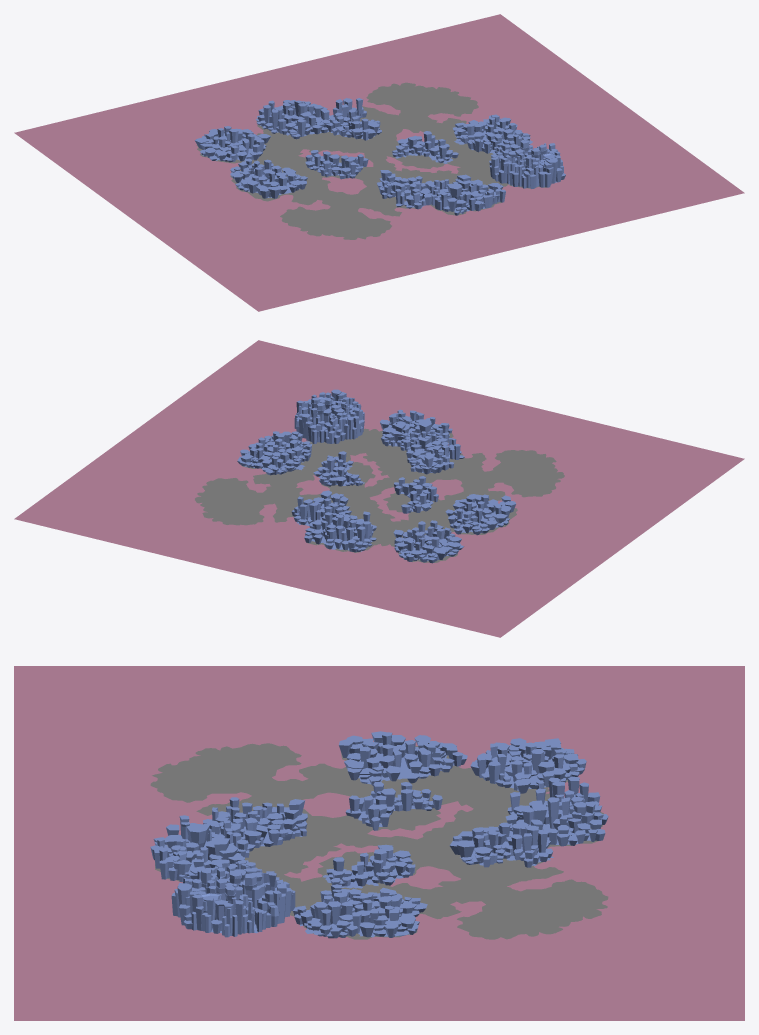
Rendered from ffff.fbx.
The picture shows the model from 3 angles, top to bottom: view 1: azimuth 30°, elevation 25°; view 2: azimuth 150°, elevation 25°; view 3: azimuth 270°, elevation 25°; orthographic projection. The views are drawn at different scales.
Visible parts, largest first — view 1: Plane004, Group004, Line027; view 2: Plane004, Group004, Line027; view 3: Plane004, Group004, Line027.
Boxes of the visible parts, <box> form: Plane004: <box>14,14,744,311</box>; Group004: <box>195,98,565,215</box>; Line027: <box>196,82,546,239</box>; Plane004: <box>14,340,744,637</box>; Group004: <box>237,389,515,563</box>; Line027: <box>195,428,564,562</box>; Plane004: <box>14,666,744,1020</box>; Group004: <box>150,731,608,938</box>; Line027: <box>150,743,608,939</box>.
Size of the model in its own units: 22792 by 1297 by 19838.
